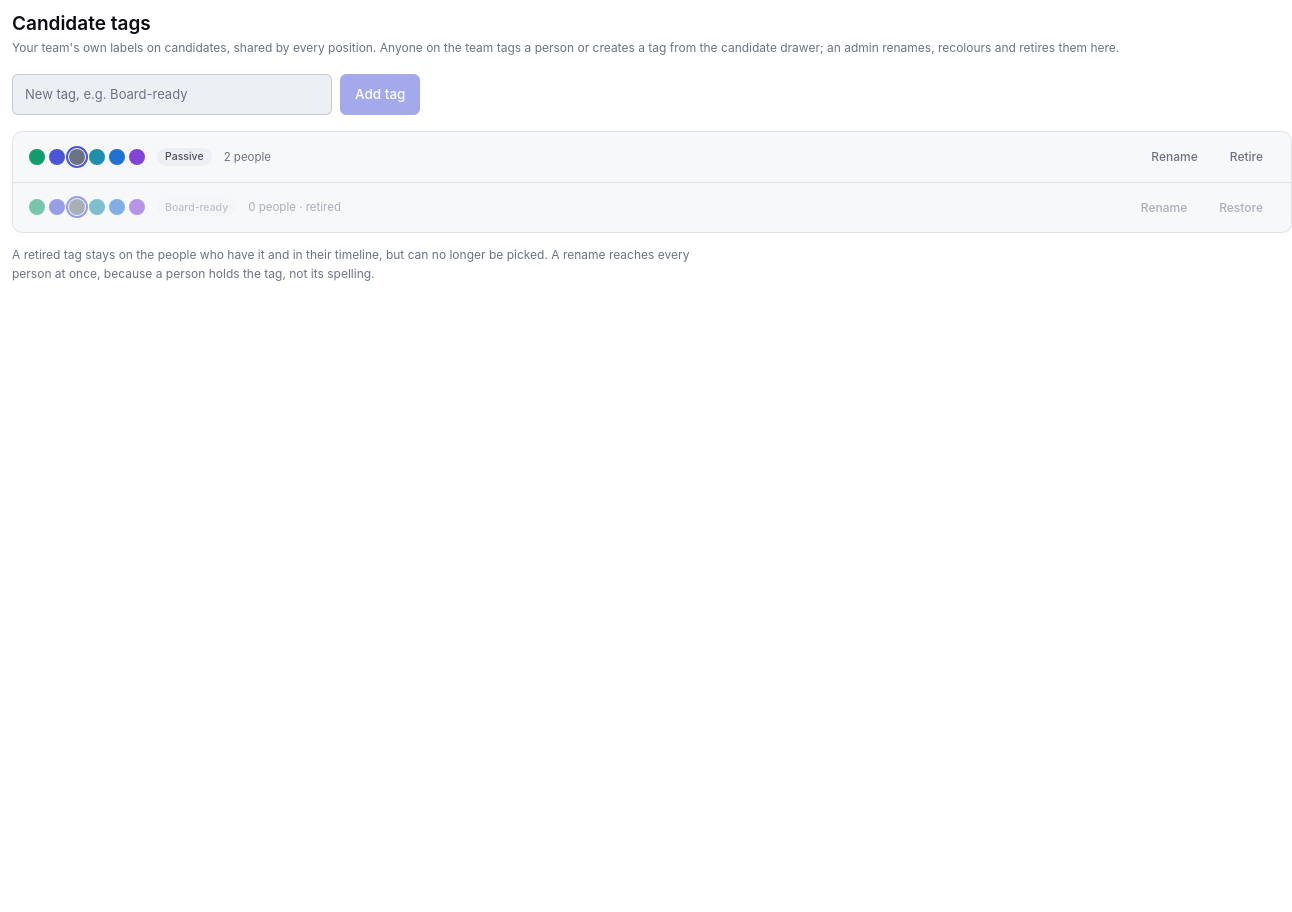
SettingsCandidateTagsPage › says a tag already exists
Expected: the text "2 people" is shown, [224,149,271,165]
Type "passive" into the field labelled "New tag".
click(172, 95); type("passive")  # box [12,74,332,115]
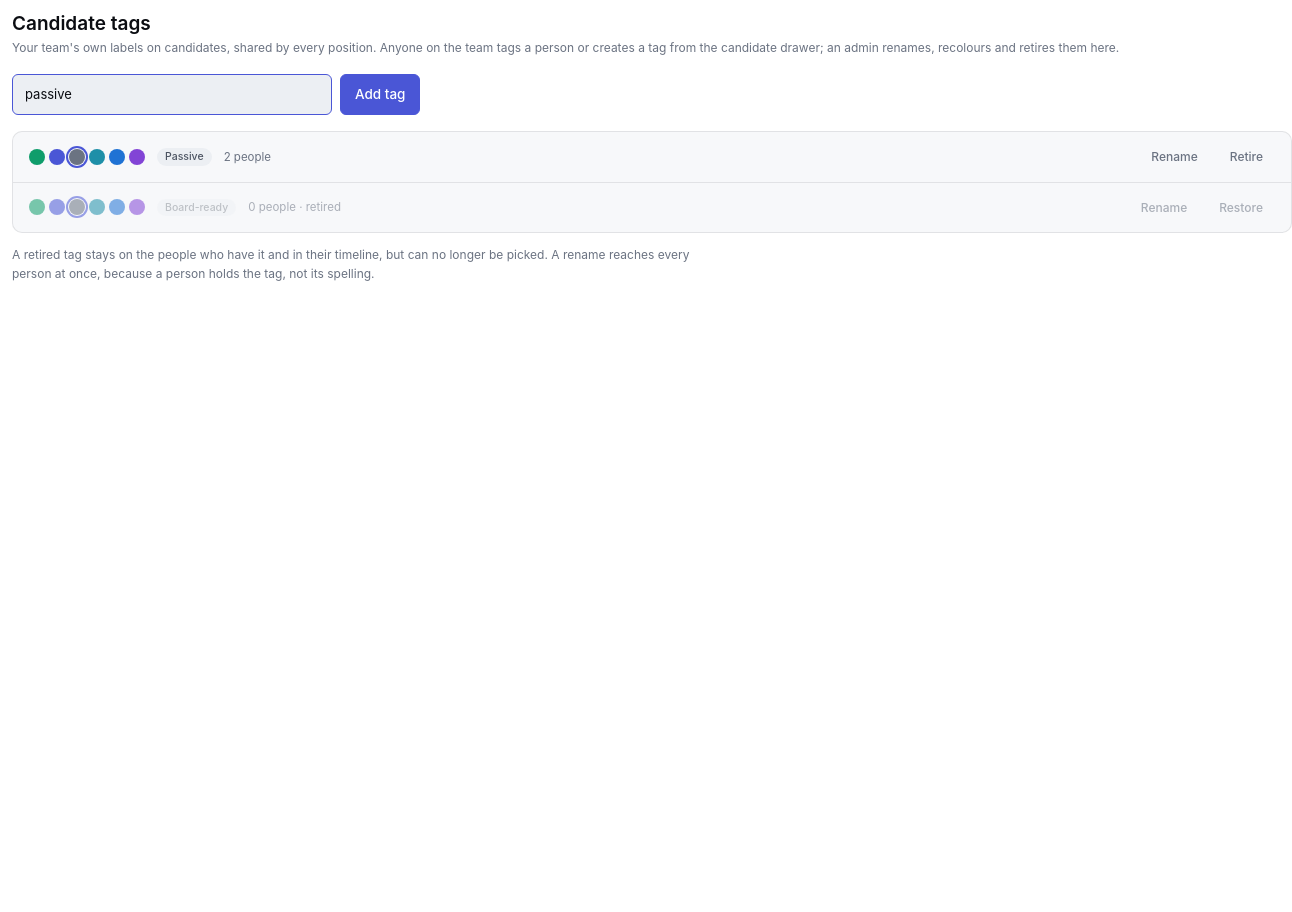
Click the button "Add tag".
click(380, 95)  # box [340,74,420,115]
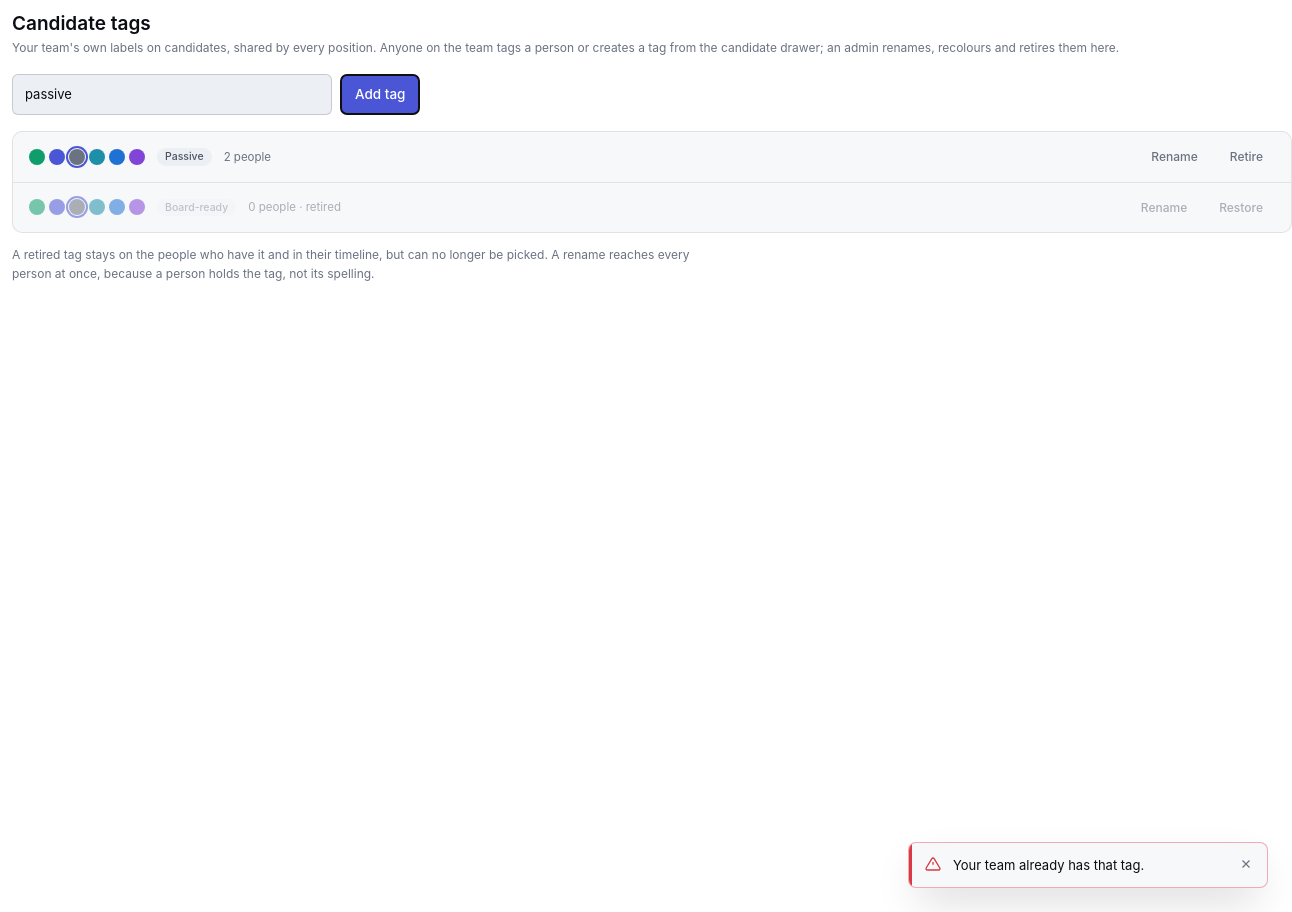
Now the text "Your team already has that tag." is shown, box [953,857,1144,873]
